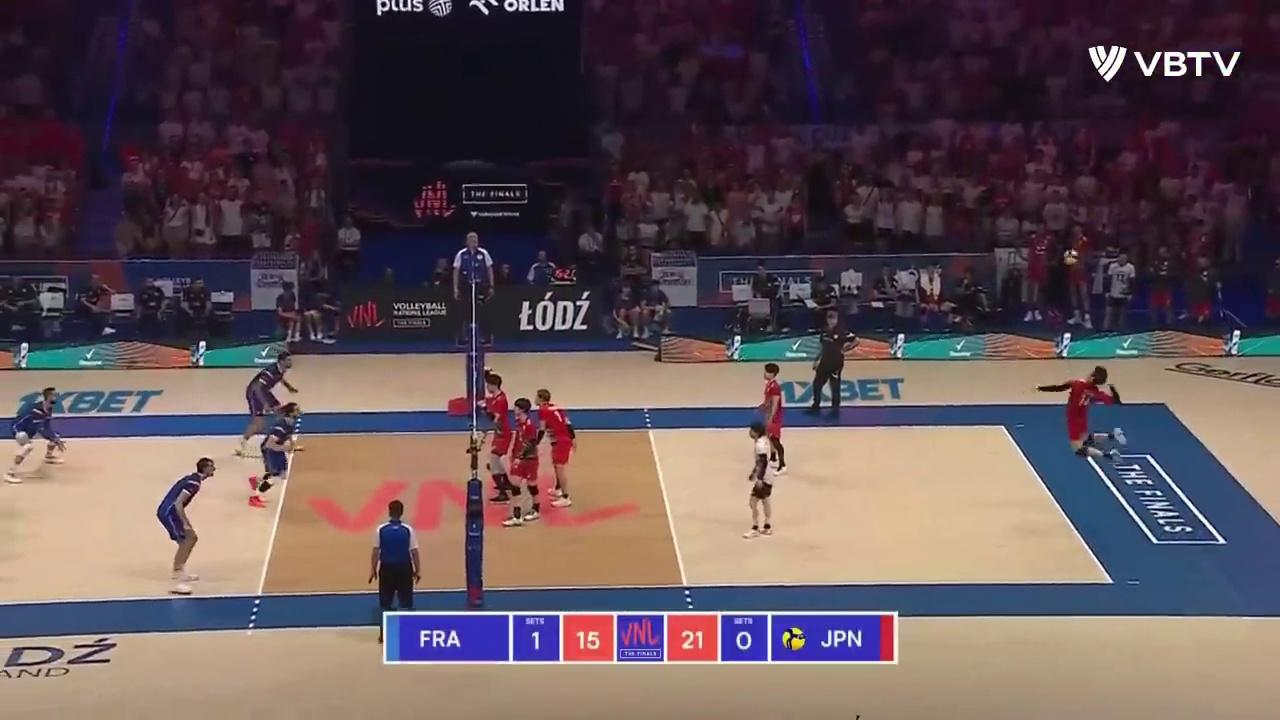ball: (1064, 249, 1080, 266)
